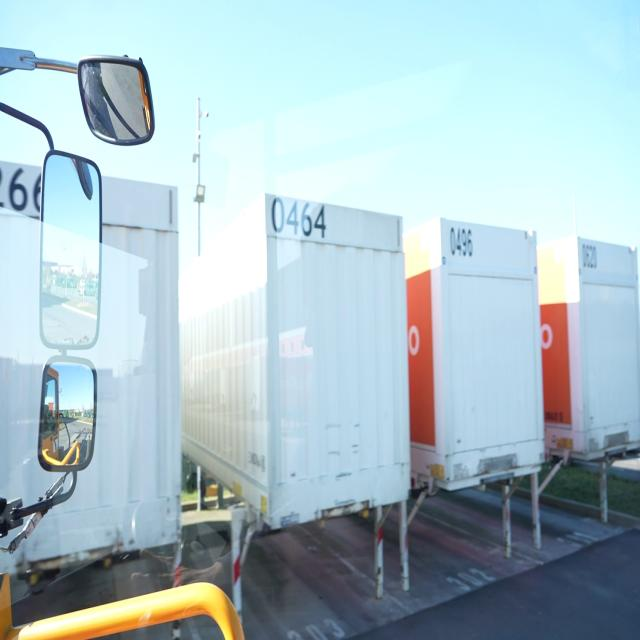Code: (271, 194, 329, 241), (447, 222, 478, 258)
